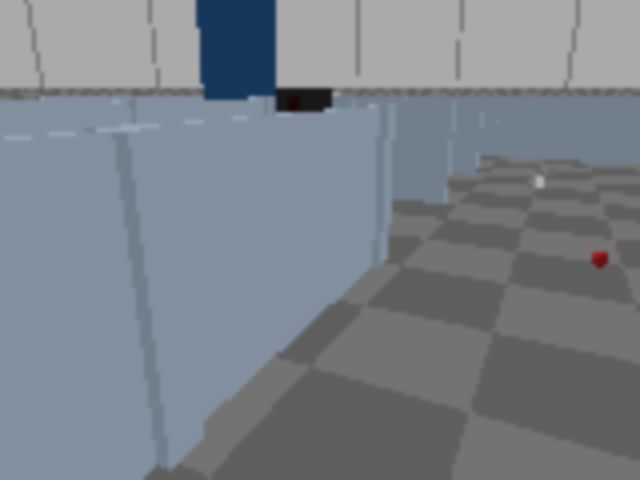puck: (586, 248, 614, 270)
